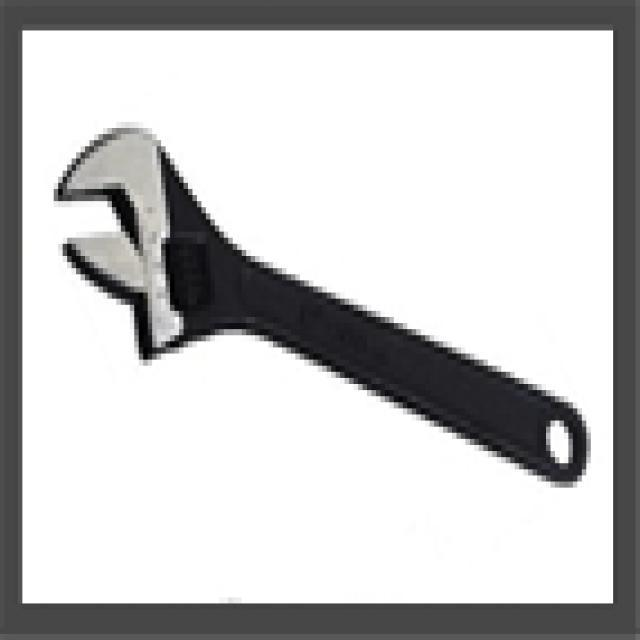wrench: (41, 115, 594, 498)
